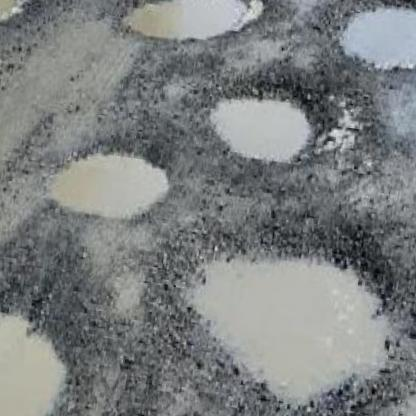pothole: (157, 208, 416, 416), (47, 136, 183, 230), (204, 68, 327, 170), (0, 276, 80, 416), (117, 0, 279, 58), (323, 0, 416, 86)
